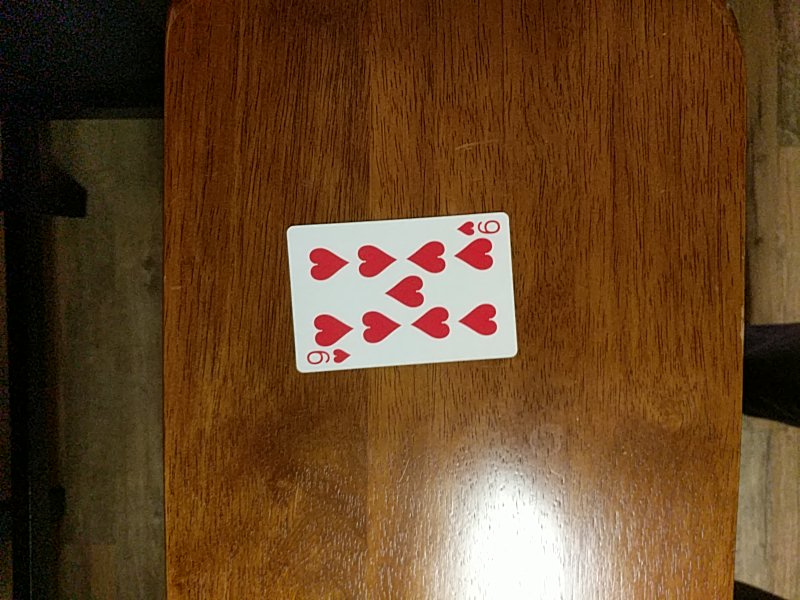Hearts: (284, 209, 527, 371)
